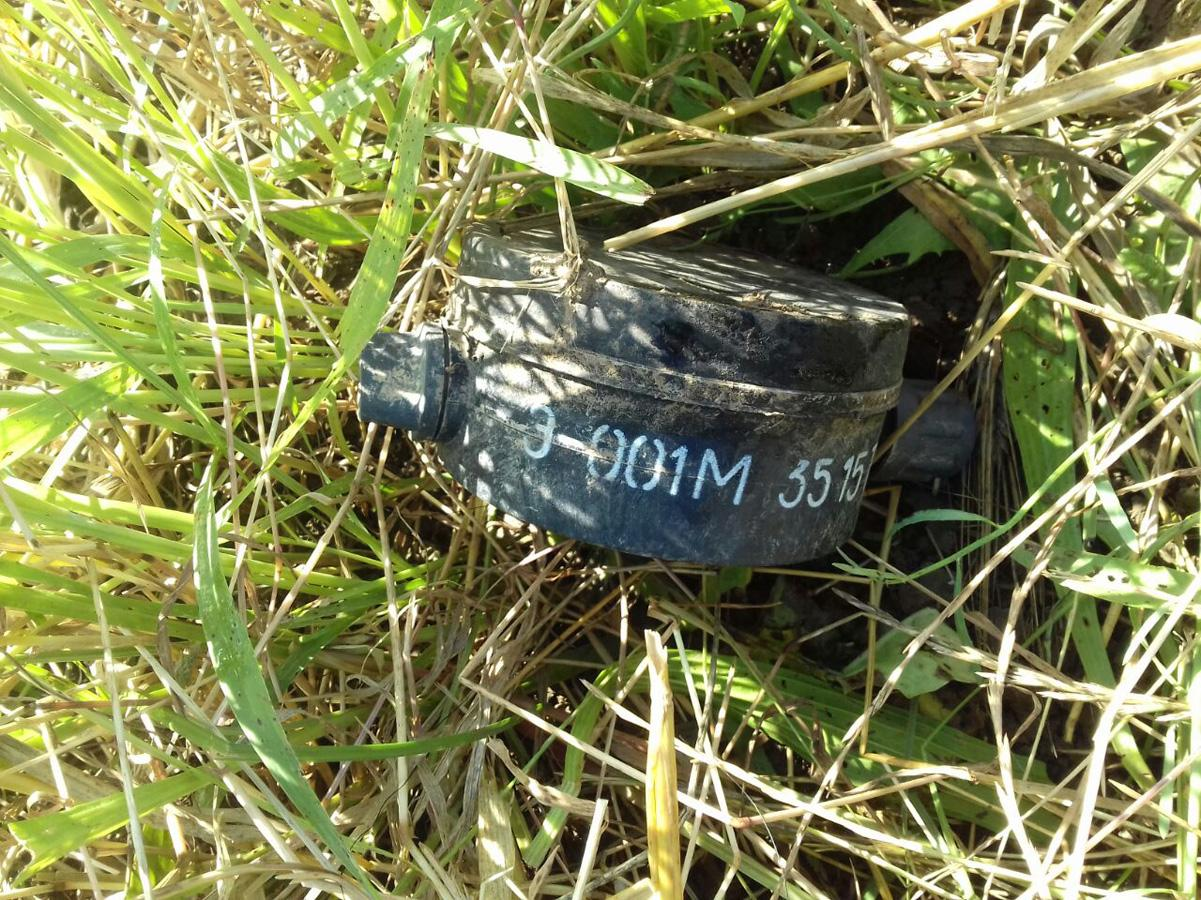pmn: (353, 209, 985, 571)
